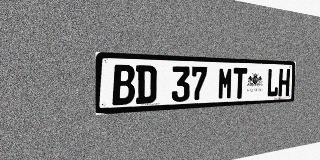3: (171, 66, 190, 102)
7: (190, 66, 207, 101)
B: (112, 64, 135, 105)
D: (136, 65, 157, 104)
H: (278, 69, 290, 97)
L: (266, 68, 279, 97)
M: (217, 67, 233, 100)
T: (232, 68, 247, 99)
